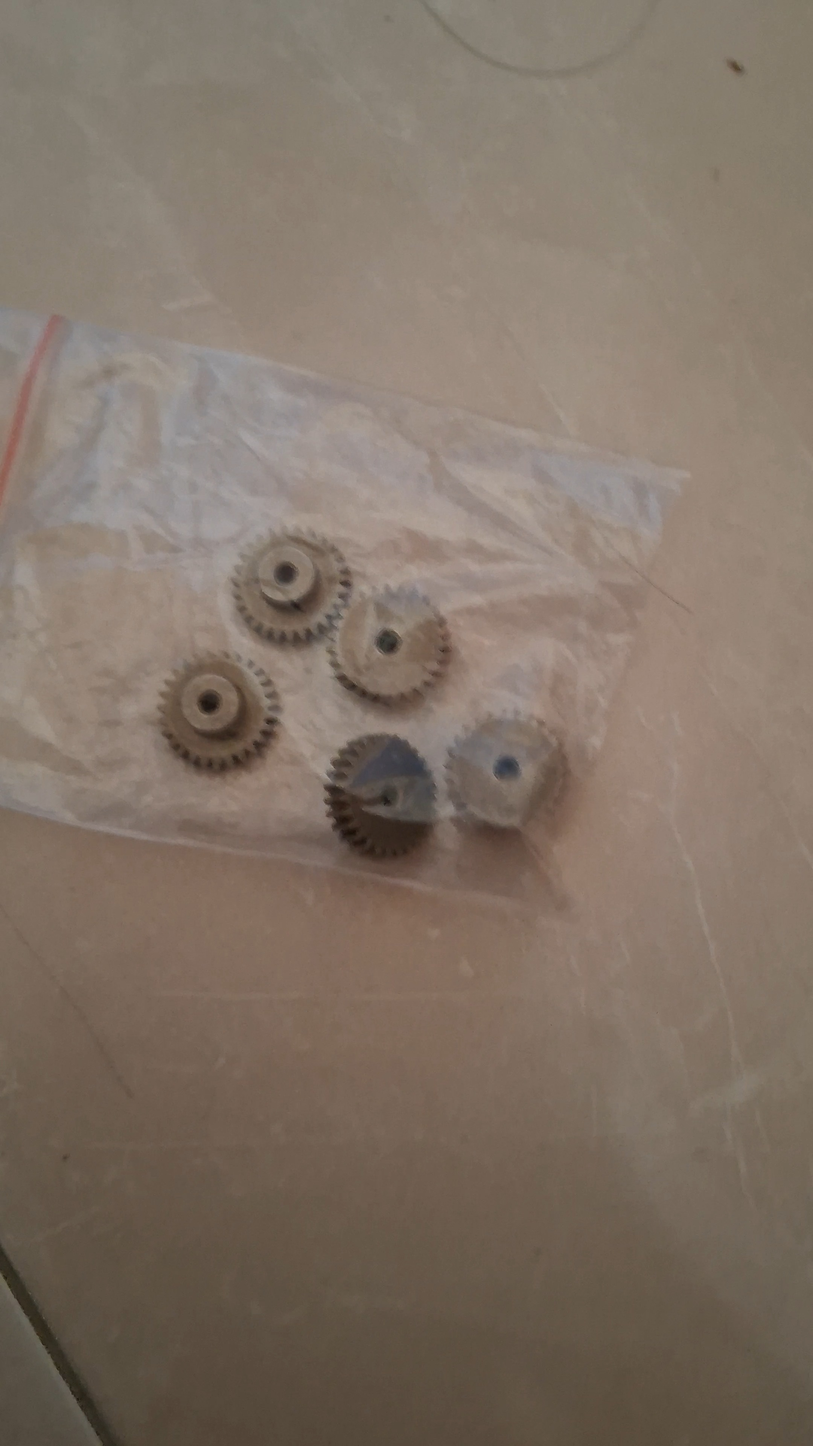spur gear: (160, 654, 280, 769), (329, 589, 449, 703), (326, 734, 435, 857), (446, 716, 565, 828), (232, 531, 351, 642)
